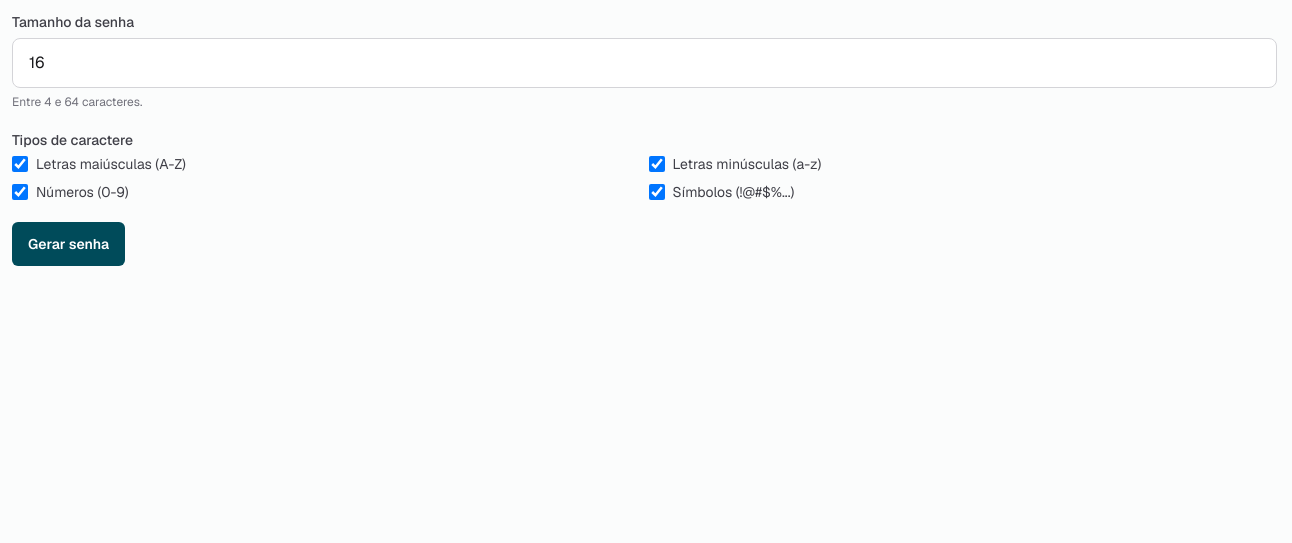
Test: PasswordGeneratorTool › copia a senha gerada e mostra feedback acessível
Click the button "Gerar senha".
click(69, 244)  # box [12,222,125,266]
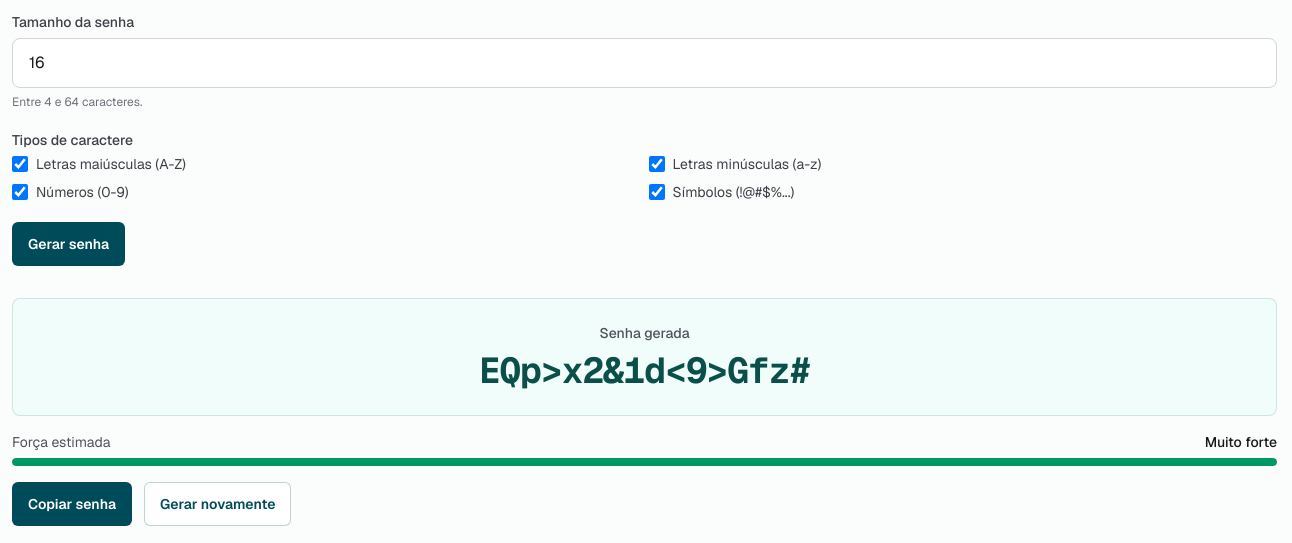
Click the button "Copiar senha".
click(72, 504)  # box [12,482,132,526]
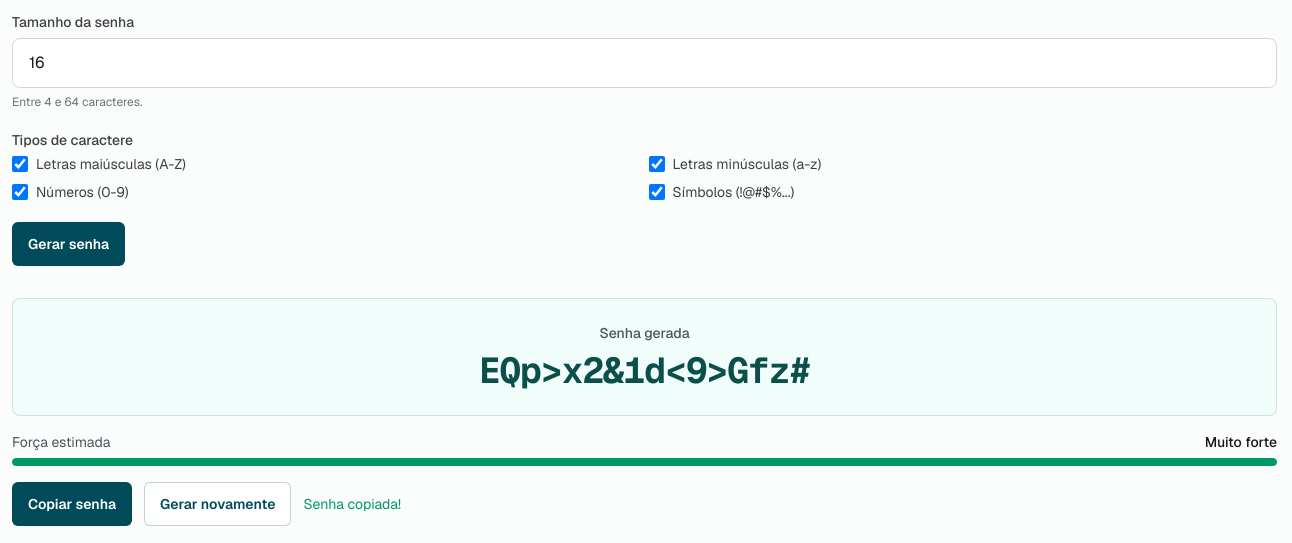
Result: the message reads "Senha copiada!" at [303,495,401,513]
